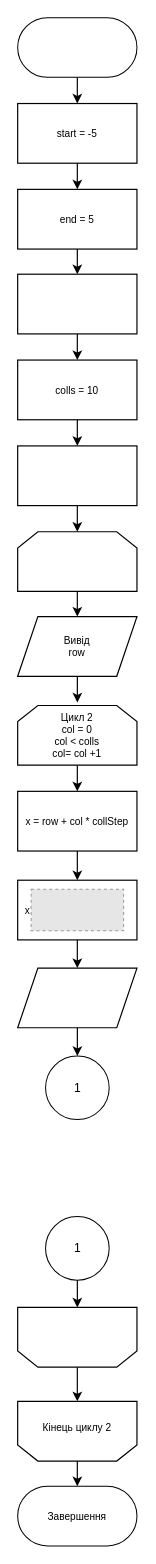
This 156x1564 diagram has some shape labels left out. Grey dashed boxes stand in for pictures. The shapes that lost their labels are listed below. From the top down, each one's box as (x1, y1, x2, y2) in pixels, then its label:
(17, 17, 137, 77): Початок
(17, 273, 137, 334): rowStep = 1
(17, 445, 137, 506): collStep = rowStep / colls
(17, 531, 137, 592): Цикл 1 row = start row <= end row += rowStep
(17, 967, 137, 1028): Вивід x
(17, 1306, 137, 1367): Кінець циклу 1
